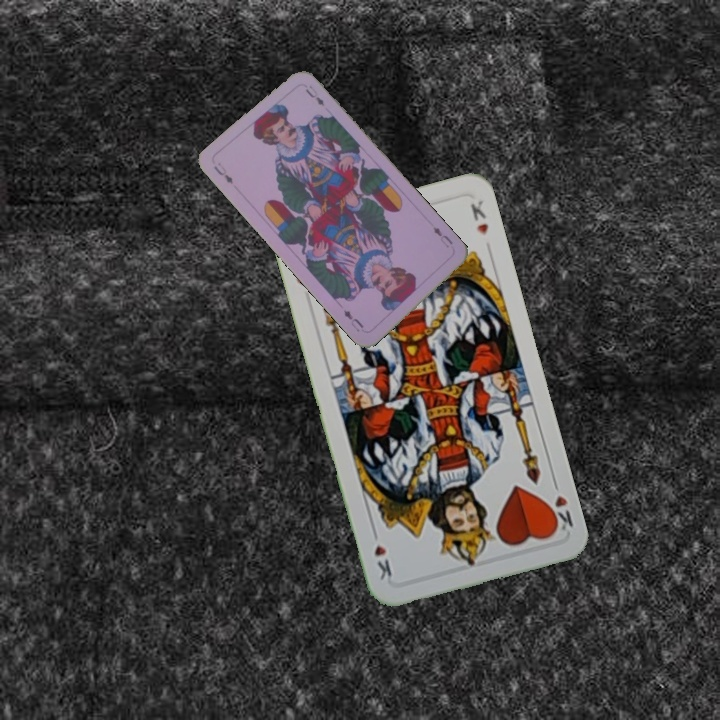EU: (210, 158, 236, 187), (429, 223, 455, 251)
HK: (543, 475, 576, 536)
